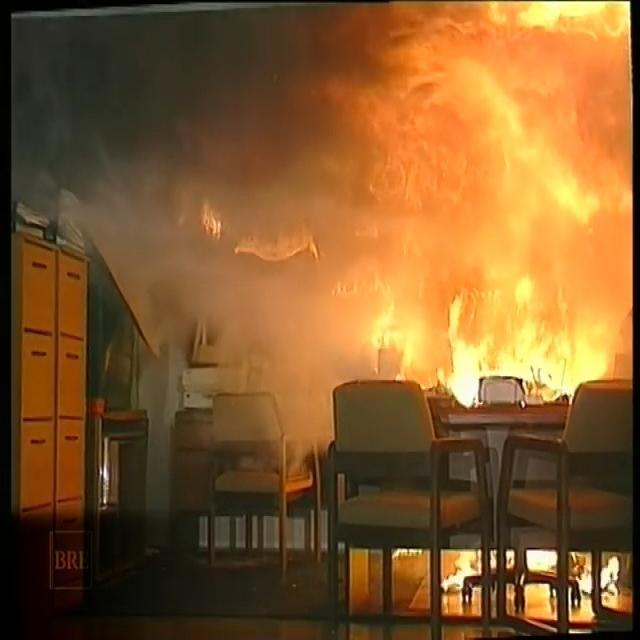Fire: (273, 5, 632, 425)
